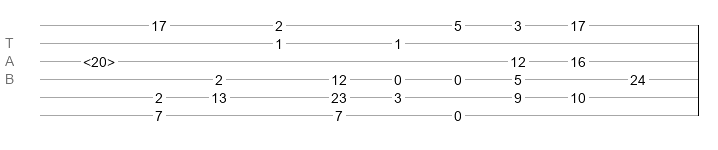0: (394, 72, 402, 82), (454, 72, 462, 82), (454, 108, 462, 118)
1: (275, 36, 283, 46), (394, 36, 402, 46)
10: (570, 90, 586, 100)
12: (331, 72, 347, 82), (510, 54, 526, 64)
13: (211, 90, 227, 100)
16: (570, 54, 586, 64)
17: (151, 18, 167, 28), (570, 18, 586, 28)
2: (155, 90, 163, 100), (215, 72, 223, 82), (275, 18, 283, 28)
23: (331, 90, 347, 100)
24: (630, 72, 646, 82)
3: (394, 90, 402, 100), (514, 18, 522, 28)
5: (454, 18, 462, 28), (514, 72, 522, 82)
7: (155, 108, 163, 118), (335, 108, 343, 118)
9: (514, 90, 522, 100)
harmonic: (83, 54, 115, 64)
